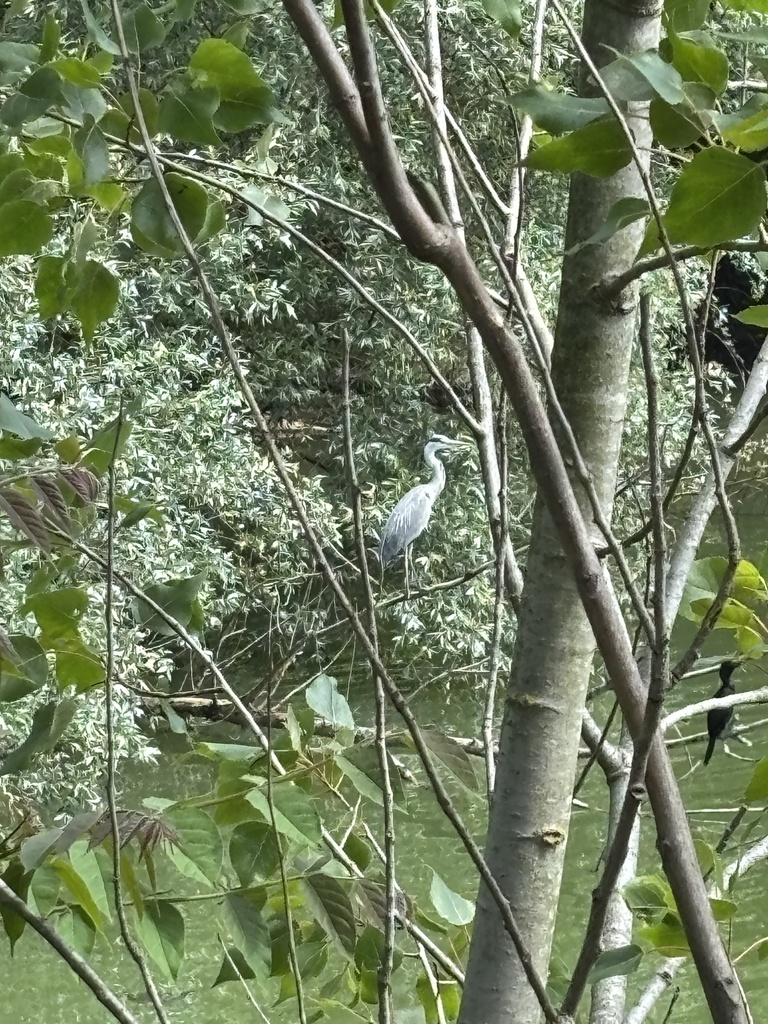heron: (377, 434, 470, 607)
